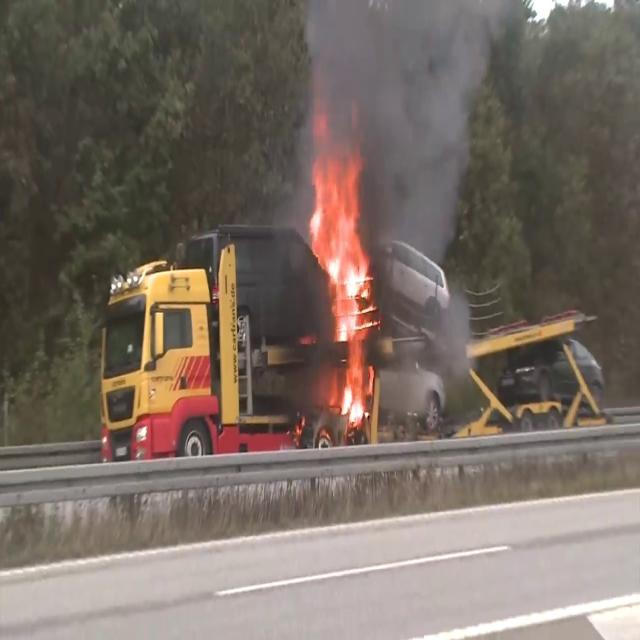Fire: (306, 134, 384, 430)
Smoke: (298, 1, 511, 279)
